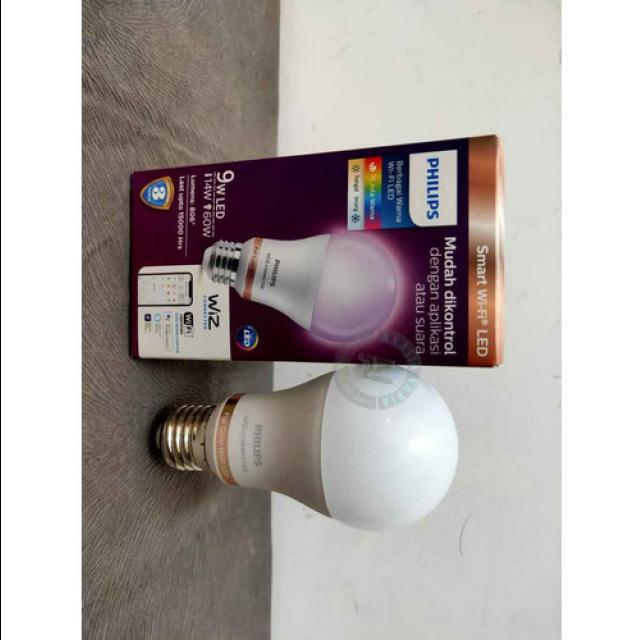light_bulb: (138, 358, 462, 538)
